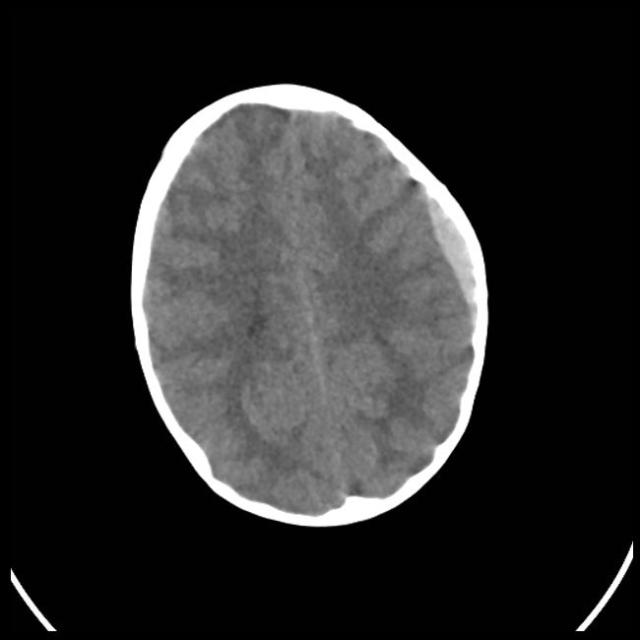lesion: (384, 177, 511, 322)
